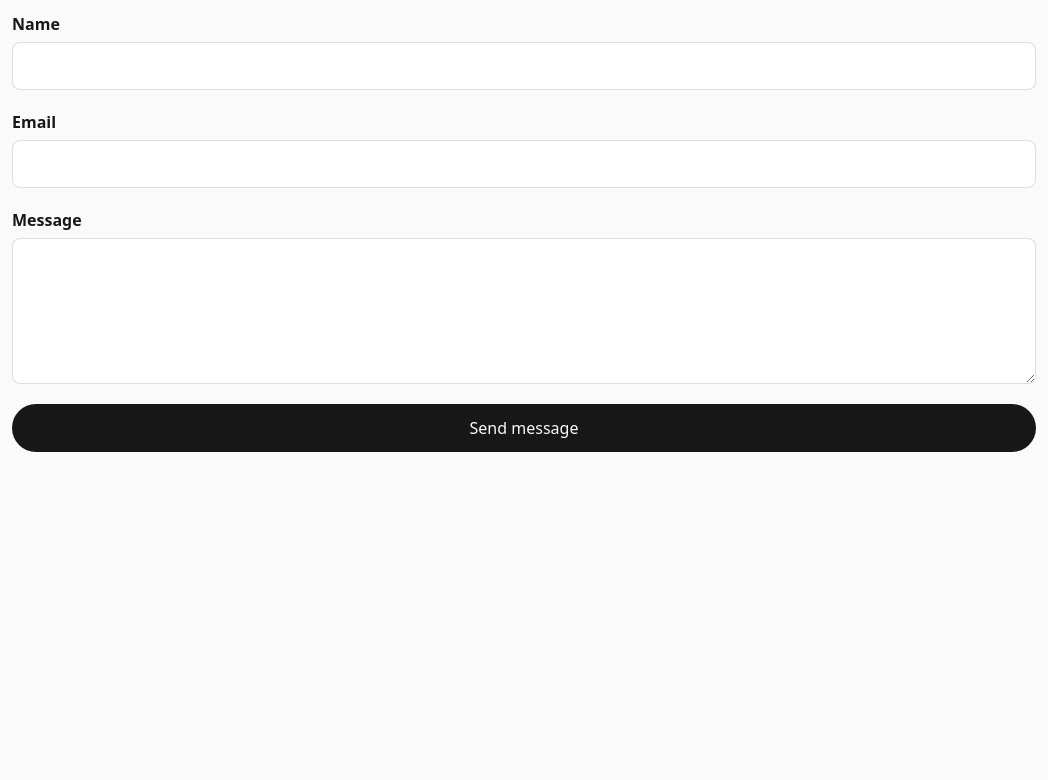
ContactForm › refuses every empty field, and an address that is not one
The width and height of the screenshot is (1048, 780).
Click the button "Send message" at x=524, y=428, box [12, 404, 1036, 452]
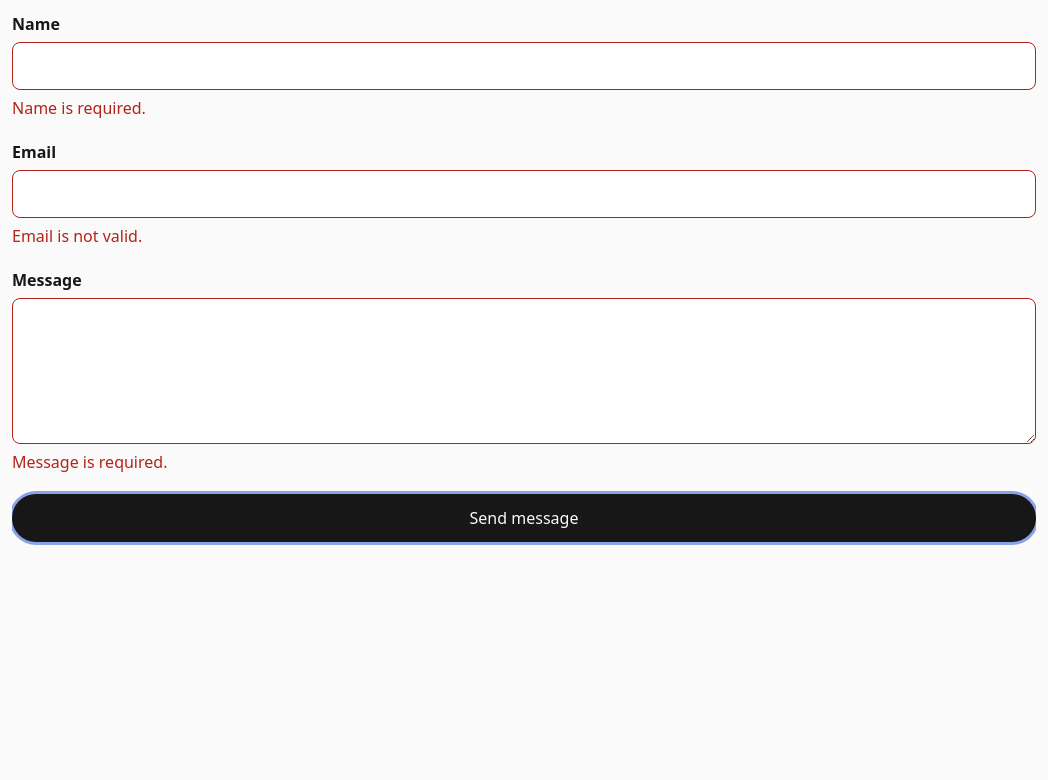
Now the text "Name is required." is shown, box [12, 97, 146, 119]
Now the text "Email is not valid." is shown, box [12, 225, 142, 247]
Now the text "Message is required." is shown, box [12, 451, 167, 473]
Type "Ravit" into the field labelled "Name" at x=524, y=66, box [12, 42, 1036, 90]
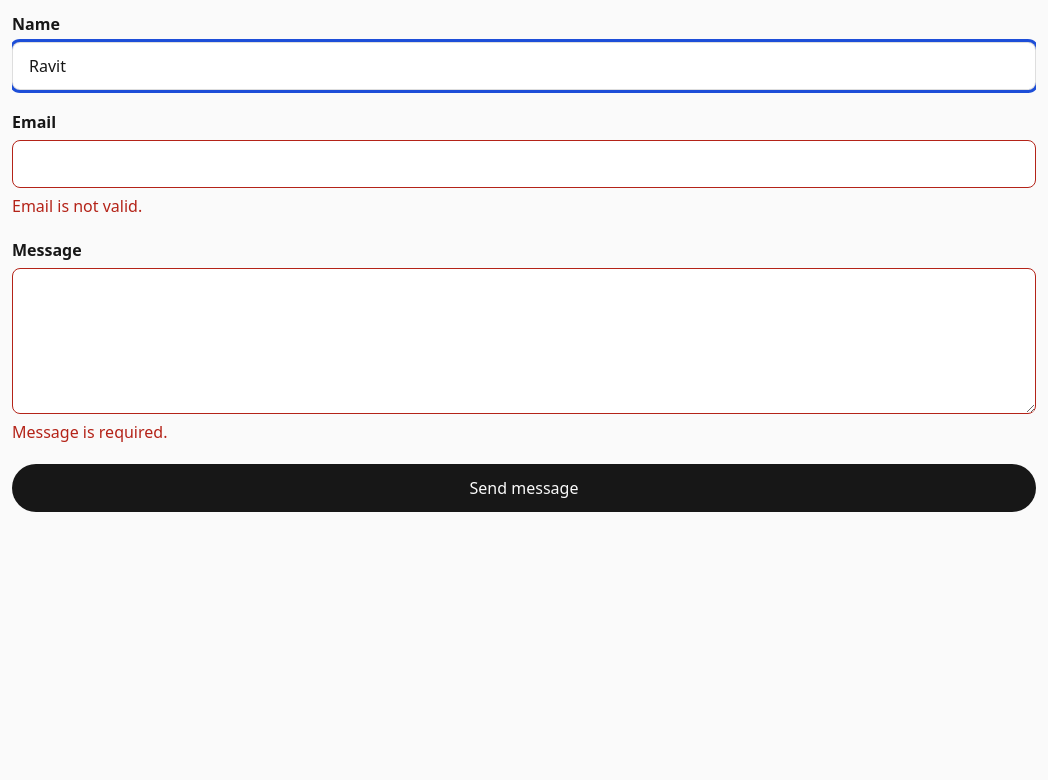
Type "not-an-address" into the field labelled "Email" at x=524, y=164, box [12, 140, 1036, 188]
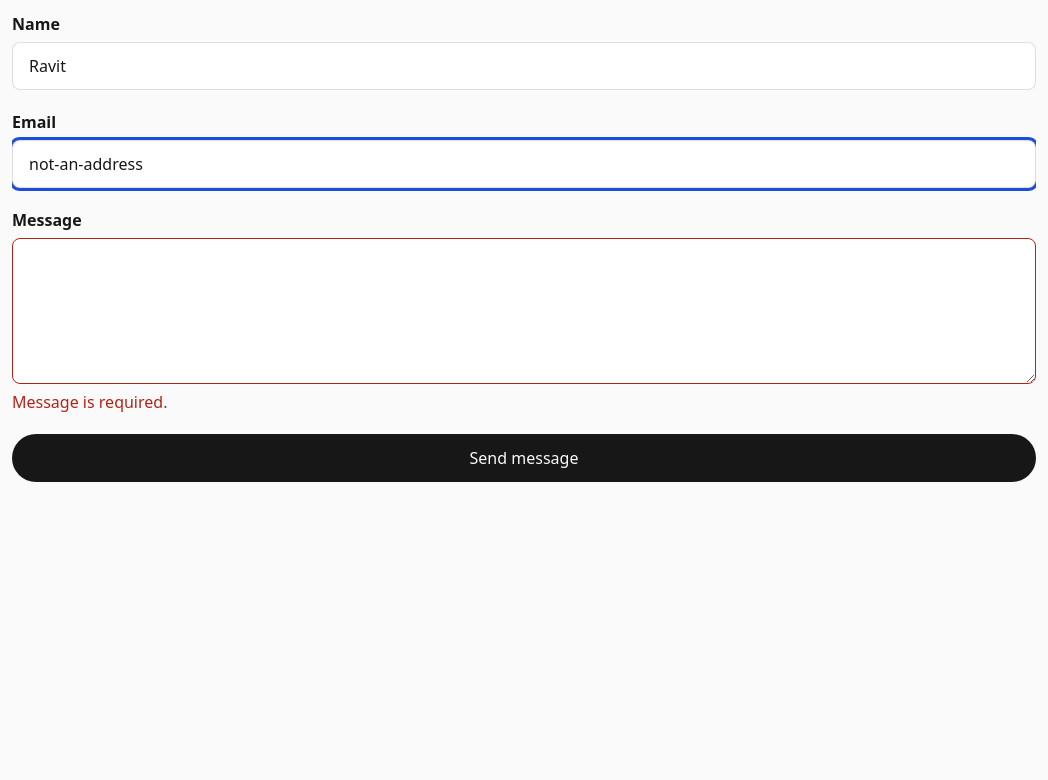
Type "Hello" into the text box labelled "Message" at x=524, y=311, box [12, 238, 1036, 384]
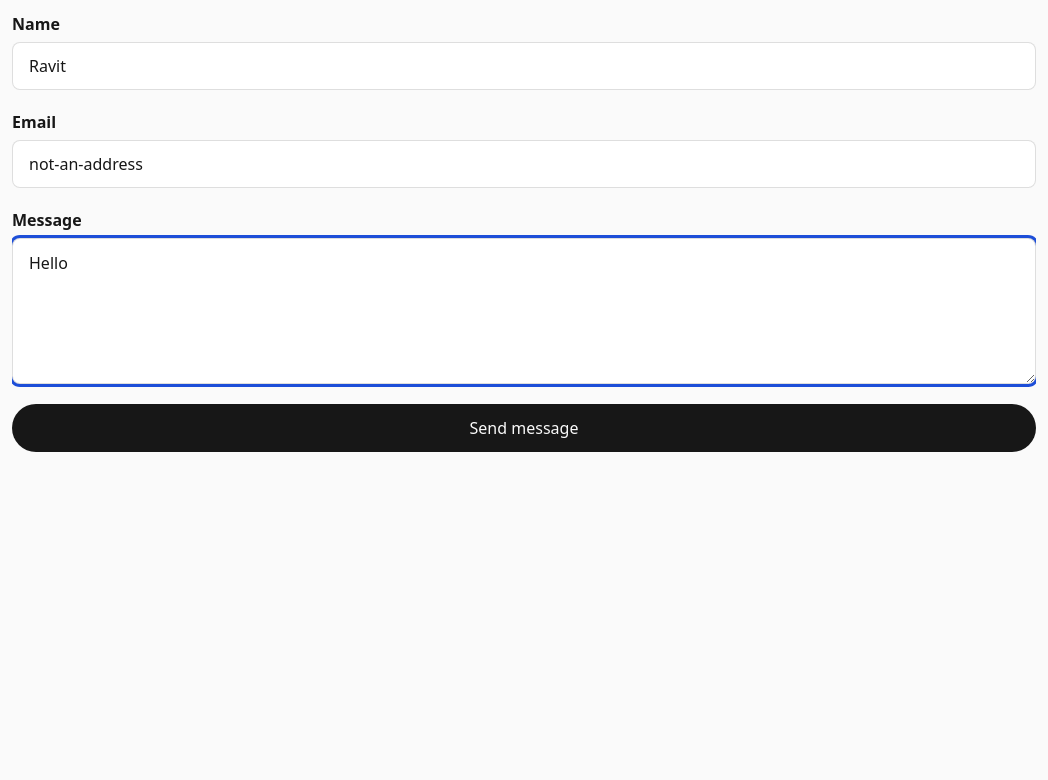
Click the button "Send message" at x=524, y=428, box [12, 404, 1036, 452]
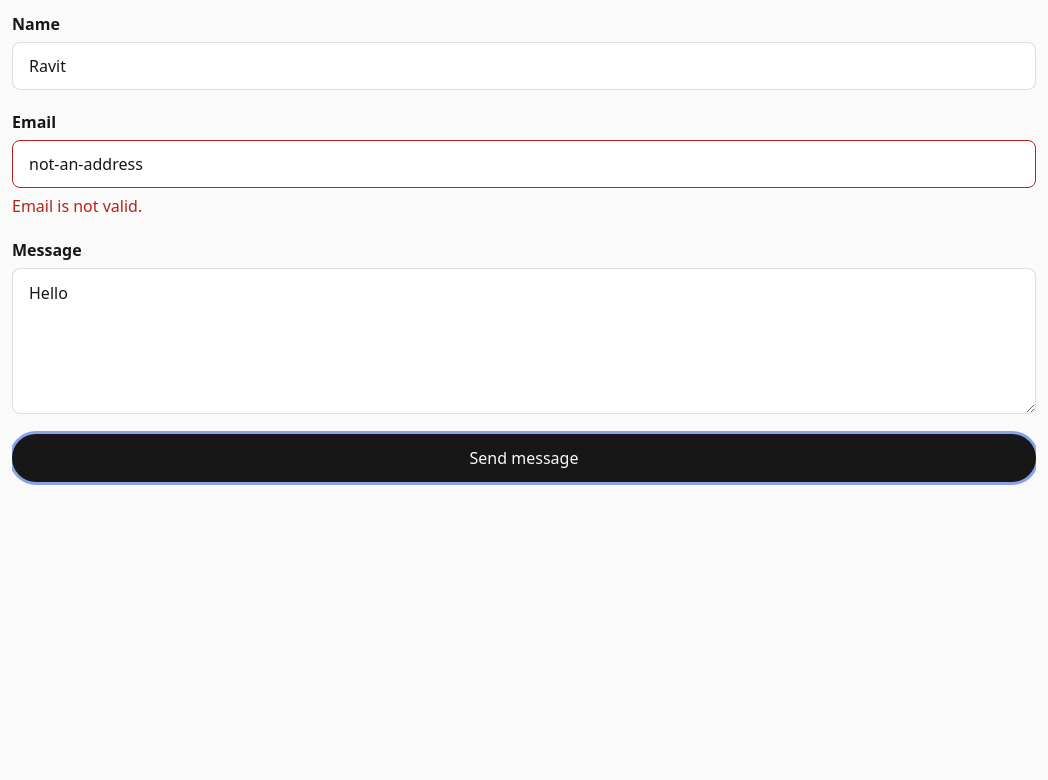
Expected: the text "Name is required." is not shown
Now the text "Email is not valid." is shown, box [12, 195, 142, 217]
